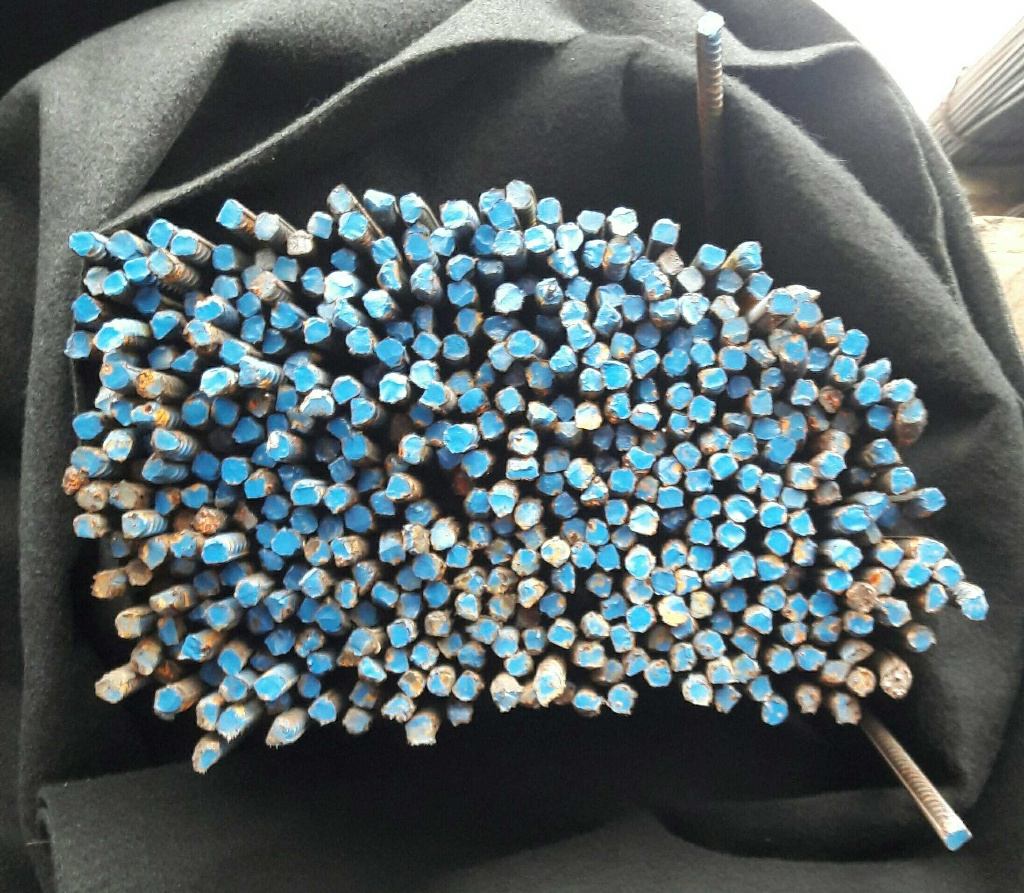dipstick: (881, 665, 912, 699), (295, 627, 325, 657), (695, 630, 725, 660), (382, 693, 413, 722), (566, 458, 595, 489), (71, 294, 101, 323), (150, 311, 180, 340), (379, 373, 408, 403), (608, 206, 638, 235), (680, 294, 709, 324), (847, 583, 876, 613), (327, 183, 355, 214), (507, 454, 539, 481), (765, 436, 797, 463), (494, 283, 523, 312), (541, 539, 570, 568), (847, 667, 876, 696), (139, 539, 167, 569), (192, 744, 220, 774), (441, 199, 469, 229), (549, 619, 577, 649), (525, 360, 555, 388), (604, 393, 632, 423), (631, 349, 659, 379), (732, 654, 760, 684), (405, 718, 436, 745), (493, 229, 524, 256), (809, 590, 840, 617), (377, 261, 405, 290), (348, 630, 377, 658), (550, 345, 579, 373), (559, 300, 587, 329), (506, 179, 534, 208), (602, 360, 630, 389), (669, 642, 697, 671), (630, 506, 658, 535), (632, 403, 661, 431), (106, 231, 136, 258), (132, 286, 162, 313), (338, 212, 368, 239), (534, 674, 561, 704), (608, 685, 635, 715), (525, 224, 552, 254), (840, 329, 870, 356), (882, 600, 912, 627), (303, 391, 334, 417), (135, 370, 163, 398), (184, 319, 212, 347), (211, 397, 239, 425), (307, 211, 335, 239), (376, 338, 404, 366), (350, 680, 378, 708), (400, 435, 428, 463), (488, 595, 516, 623), (472, 616, 500, 644), (582, 341, 610, 369), (728, 551, 756, 579), (717, 521, 745, 549), (131, 646, 158, 675), (266, 628, 295, 655), (147, 219, 174, 248), (488, 566, 517, 593), (597, 283, 626, 310), (744, 608, 773, 635), (100, 362, 130, 388), (470, 225, 496, 255), (725, 495, 755, 521), (833, 698, 863, 724), (526, 401, 557, 426), (84, 267, 111, 295), (264, 595, 292, 622), (332, 539, 359, 567), (345, 505, 373, 532), (233, 416, 261, 443), (201, 370, 229, 397), (196, 296, 224, 323), (303, 317, 331, 344), (410, 360, 437, 388), (444, 425, 472, 452), (479, 411, 506, 439), (462, 451, 490, 478), (575, 402, 602, 430), (688, 591, 716, 618), (673, 442, 701, 469), (94, 326, 123, 352), (104, 434, 133, 460), (124, 559, 153, 585), (270, 302, 299, 328), (363, 289, 392, 315), (404, 233, 433, 259), (630, 256, 659, 282), (917, 539, 946, 565), (764, 695, 789, 725), (72, 415, 103, 439), (65, 331, 92, 358), (206, 603, 233, 630), (291, 507, 318, 534), (328, 272, 355, 299), (601, 498, 628, 525), (567, 322, 594, 349), (549, 395, 576, 422), (181, 482, 209, 508), (219, 676, 247, 702), (302, 568, 328, 596), (272, 529, 300, 555), (324, 486, 350, 514), (254, 212, 280, 240), (250, 271, 278, 297), (359, 657, 387, 683), (412, 333, 440, 359), (510, 429, 538, 455), (552, 491, 578, 519), (558, 223, 584, 251), (688, 545, 716, 571), (656, 457, 682, 485), (779, 336, 807, 362), (868, 569, 896, 595), (95, 678, 124, 703), (330, 248, 359, 273), (797, 645, 826, 670), (71, 448, 101, 472), (73, 512, 103, 536), (183, 636, 213, 660), (364, 189, 394, 213), (839, 507, 870, 530), (170, 531, 196, 558), (254, 674, 281, 700), (309, 698, 336, 724), (262, 495, 289, 521), (349, 398, 376, 424), (301, 267, 327, 294), (371, 237, 397, 264), (346, 327, 373, 353), (407, 501, 434, 527), (442, 334, 469, 360), (446, 255, 473, 281), (455, 308, 482, 334), (508, 330, 535, 356), (515, 503, 541, 530), (584, 613, 610, 640), (537, 278, 564, 304), (565, 276, 592, 302), (610, 332, 636, 359), (686, 679, 713, 705), (661, 599, 688, 625), (652, 219, 679, 245), (678, 266, 705, 292), (790, 379, 817, 405), (830, 355, 857, 381), (343, 708, 371, 733), (217, 199, 242, 227), (285, 230, 313, 255), (410, 644, 438, 669), (399, 194, 424, 222), (578, 643, 606, 668), (182, 399, 208, 425), (115, 612, 141, 638), (305, 539, 331, 565), (329, 456, 355, 482), (273, 257, 299, 283), (371, 583, 397, 609), (428, 670, 454, 696), (423, 581, 449, 607), (459, 643, 485, 669), (505, 651, 531, 677), (663, 349, 689, 375), (877, 543, 903, 569), (332, 378, 359, 403), (523, 628, 548, 655), (538, 470, 565, 495), (720, 586, 747, 611), (738, 242, 763, 269), (335, 580, 359, 608), (573, 693, 601, 717), (711, 295, 739, 319), (722, 319, 750, 343), (791, 511, 819, 535), (867, 406, 895, 430), (833, 547, 861, 571), (812, 618, 840, 642), (706, 661, 735, 684), (871, 441, 900, 464), (110, 400, 136, 425), (155, 688, 181, 713), (221, 560, 246, 586), (267, 721, 293, 746), (221, 458, 247, 483), (211, 244, 236, 270), (453, 674, 478, 700), (397, 593, 423, 618), (431, 523, 456, 549), (413, 555, 438, 581), (488, 539, 513, 565), (431, 229, 456, 255), (493, 631, 518, 657), (536, 197, 561, 223), (651, 570, 676, 596), (606, 238, 632, 263), (622, 295, 647, 321), (711, 454, 736, 480), (667, 384, 693, 409), (700, 244, 725, 270), (748, 272, 773, 298), (760, 368, 785, 394), (729, 434, 755, 459), (793, 465, 819, 490), (68, 230, 95, 254), (317, 605, 341, 632), (395, 566, 422, 590), (539, 593, 566, 617), (571, 542, 595, 569), (627, 447, 654, 471), (758, 557, 785, 581), (77, 488, 105, 511), (152, 427, 180, 450), (256, 521, 279, 549), (459, 389, 487, 412), (148, 344, 173, 369), (447, 543, 472, 568), (448, 280, 473, 305), (512, 550, 537, 575), (636, 322, 661, 347), (689, 519, 714, 544), (770, 648, 795, 673), (856, 379, 881, 404), (120, 513, 146, 537), (124, 257, 150, 281), (212, 276, 238, 300), (240, 315, 264, 341), (294, 366, 318, 392), (421, 381, 447, 405), (437, 633, 463, 657), (597, 543, 621, 569), (689, 396, 713, 422), (657, 250, 683, 274), (717, 268, 743, 292), (766, 531, 792, 555), (821, 317, 845, 343), (826, 570, 852, 594), (847, 610, 873, 634), (152, 488, 175, 515), (198, 702, 221, 729), (292, 483, 319, 506), (587, 517, 610, 544), (590, 571, 613, 598), (685, 469, 712, 492), (693, 496, 720, 519), (795, 303, 822, 326), (760, 473, 783, 500), (753, 416, 780, 439), (924, 585, 947, 612), (103, 270, 127, 295), (150, 251, 174, 276), (386, 475, 411, 499), (489, 492, 513, 517), (626, 554, 651, 578), (628, 580, 652, 605), (647, 661, 671, 686), (762, 585, 786, 610), (907, 627, 931, 652), (963, 597, 988, 621), (297, 672, 320, 698), (220, 341, 246, 364), (398, 673, 424, 696), (544, 449, 570, 472), (578, 368, 604, 391), (785, 595, 808, 621), (738, 465, 761, 491), (919, 488, 945, 511), (578, 210, 606, 231), (237, 292, 261, 316), (342, 434, 366, 458), (384, 648, 408, 672), (609, 469, 633, 493), (749, 675, 773, 699), (749, 391, 773, 415), (807, 348, 831, 372), (109, 485, 134, 508), (218, 650, 241, 675), (409, 402, 434, 425), (425, 613, 450, 636), (658, 486, 683, 509), (670, 412, 695, 435), (721, 347, 746, 370), (900, 399, 925, 422), (202, 541, 228, 563), (759, 505, 785, 527), (782, 487, 808, 509), (905, 565, 931, 587), (173, 348, 197, 371), (371, 492, 395, 515), (458, 594, 481, 618), (497, 389, 520, 413), (678, 570, 701, 594), (691, 343, 715, 366), (727, 375, 751, 398), (267, 434, 289, 459), (609, 627, 631, 652), (819, 455, 844, 477), (891, 467, 913, 492), (276, 385, 297, 411), (699, 367, 726, 387), (769, 294, 796, 314), (236, 582, 258, 606), (468, 490, 490, 514), (938, 565, 962, 587), (171, 235, 196, 256), (388, 624, 410, 647), (307, 652, 331, 673), (629, 607, 650, 629), (664, 547, 685, 569), (947, 830, 970, 850), (892, 380, 913, 400), (245, 479, 264, 498)
